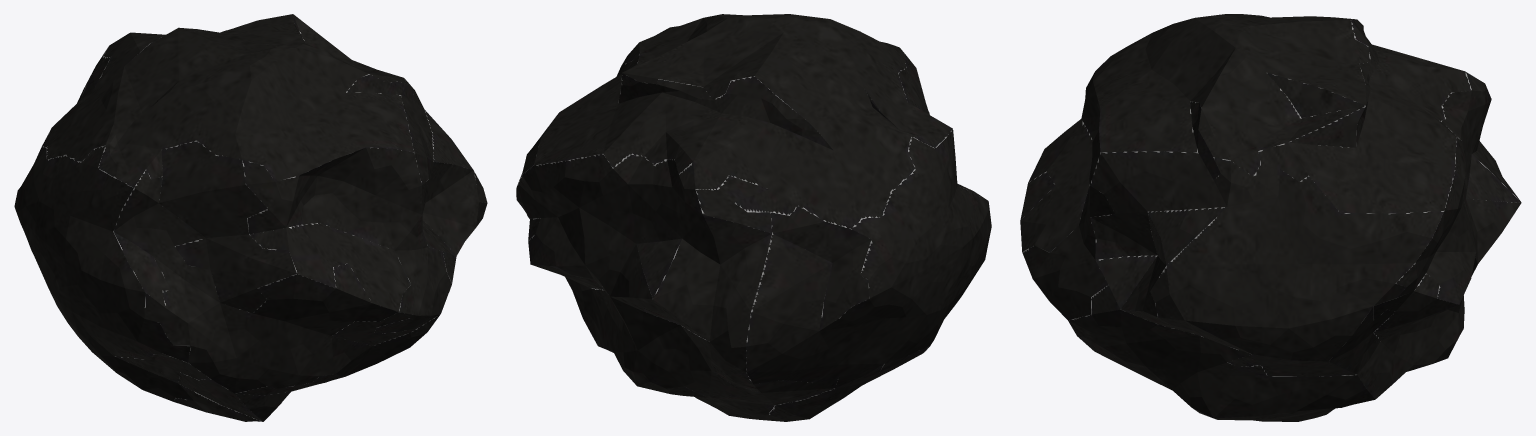
The model's file is asteroid5.dae.
3 renders of one model, left to right at view 1: azimuth 30°, elevation 25°; view 2: azimuth 150°, elevation 25°; view 3: azimuth 270°, elevation 25°, orthographic. The views are drawn at different scales.
Visible parts, largest first — view 1: asteroid5; view 2: asteroid5; view 3: asteroid5.
Part boxes in pixels (x1,y1,x2,y2): asteroid5: (14,14,487,421); asteroid5: (516,14,991,421); asteroid5: (1020,14,1521,421).
Size of the model in its own units: 576 by 496 by 591.
1 material, 1 textured.
